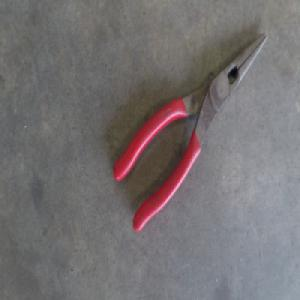Pliers: (113, 30, 270, 230)
